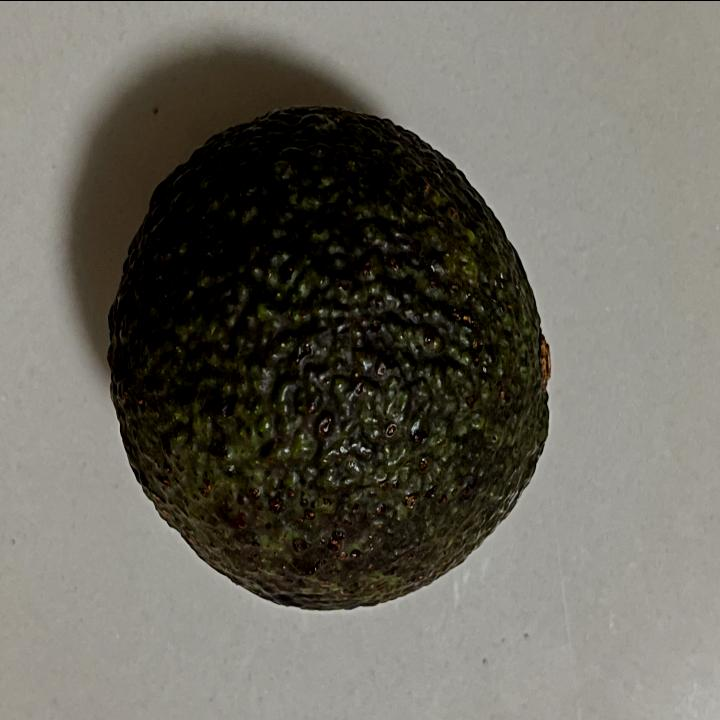Level1: (95, 90, 568, 624)
